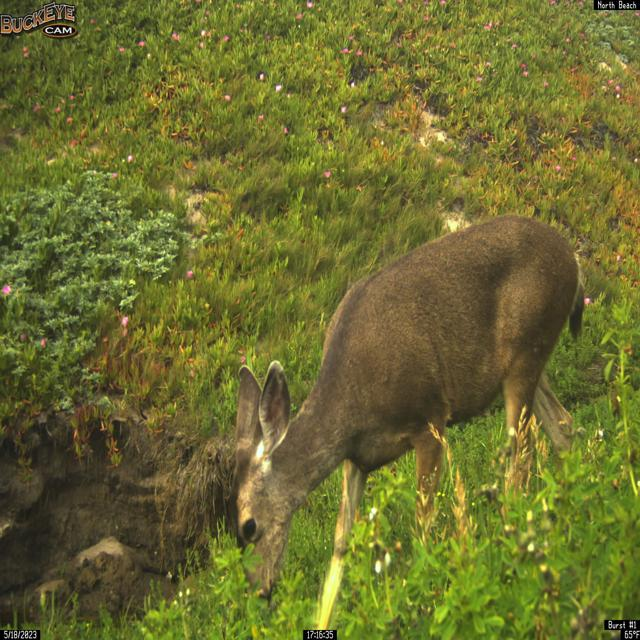deer: (227, 213, 586, 632)
